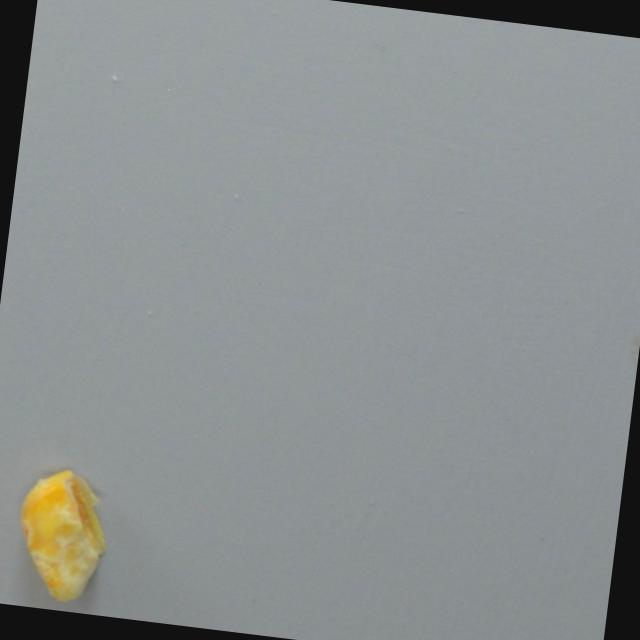dañado: (1, 462, 117, 609)
